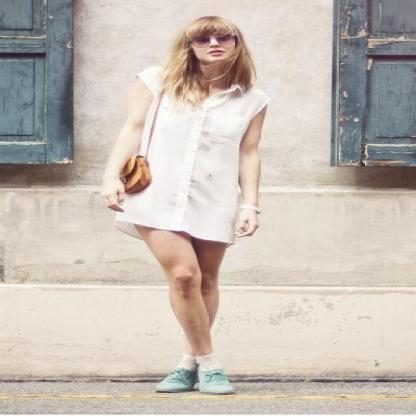bag: (119, 158, 150, 194)
dress: (112, 81, 260, 241)
shoe: (154, 360, 234, 398)
